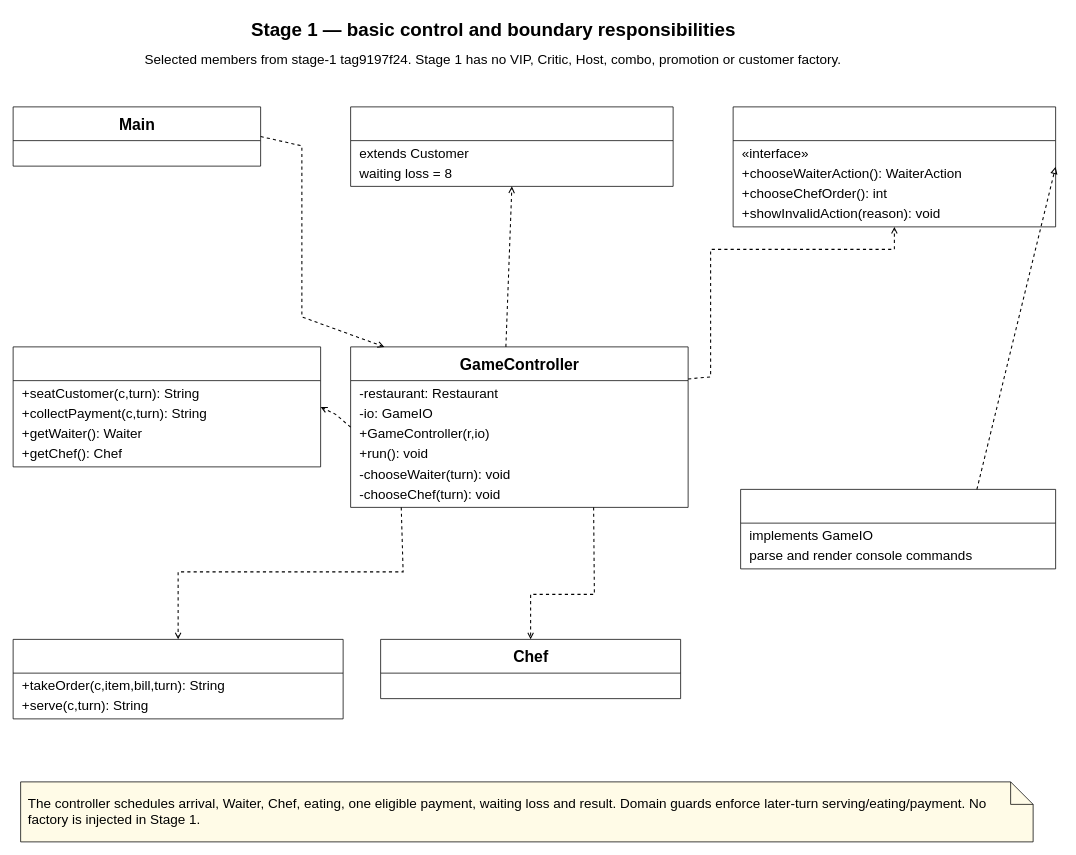
Image size: 1076x855. Some labels were removed from this diagram. Each missing label, with the box of its shape:
+main(args): void {static}: (20, 143, 253, 163)
+prepare(order,turn): String: (388, 676, 673, 695)
ConsoleUI: (740, 489, 1056, 569)
GameIO: (732, 106, 1056, 227)
RegularCustomer: (350, 106, 673, 186)
Restaurant: (12, 346, 321, 467)
Waiter: (12, 639, 343, 719)
